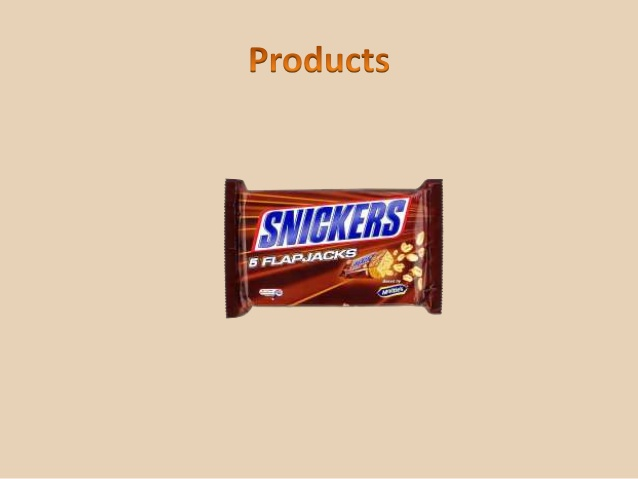snickers: (256, 197, 405, 249)
